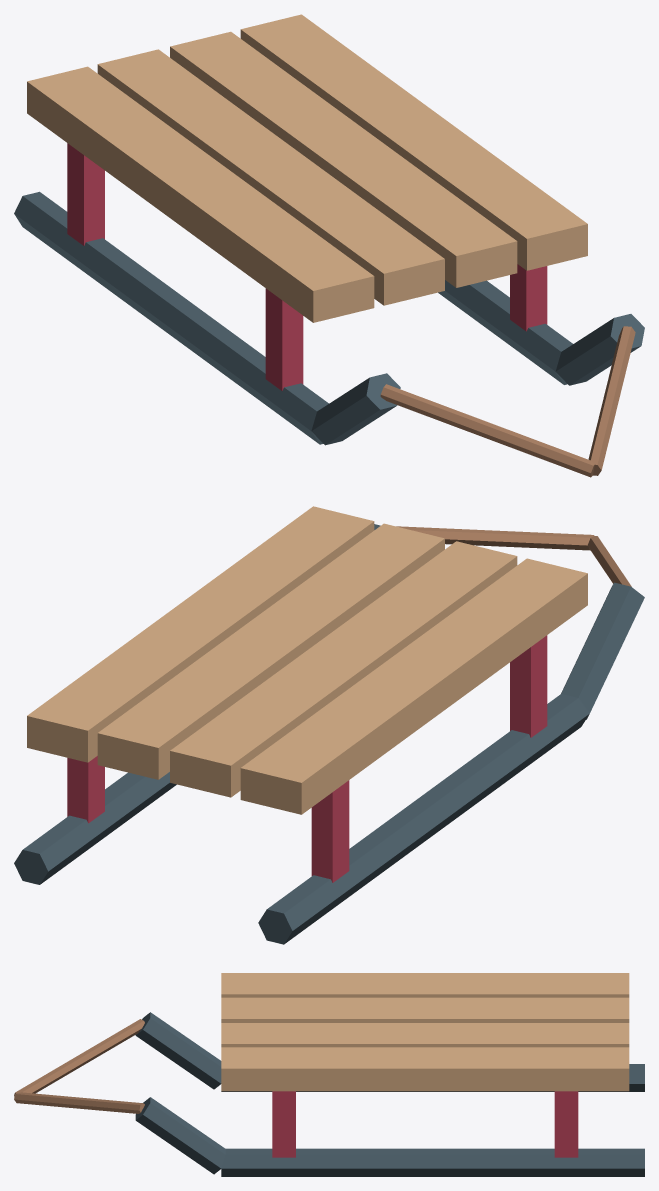
Rendered from sled.glb.
3 renders of one model, top to bottom at view 1: azimuth 30°, elevation 25°; view 2: azimuth 150°, elevation 25°; view 3: azimuth 270°, elevation 25°, orthographic. The views are drawn at different scales.
Parts seen in each view (by area): view 1: wooden-sled-cedar, wooden-sled-iron, wooden-sled-red, wooden-sled-wood; view 2: wooden-sled-cedar, wooden-sled-iron, wooden-sled-red, wooden-sled-wood; view 3: wooden-sled-cedar, wooden-sled-iron, wooden-sled-red, wooden-sled-wood.
Part boxes in pixels (x1,y1,x2,y2): wooden-sled-cedar: [27, 14, 587, 322]; wooden-sled-iron: [14, 191, 644, 445]; wooden-sled-red: [67, 143, 547, 390]; wooden-sled-wood: [380, 326, 635, 477]; wooden-sled-cedar: [27, 506, 587, 814]; wooden-sled-iron: [14, 524, 644, 944]; wooden-sled-red: [67, 635, 547, 882]; wooden-sled-wood: [396, 526, 631, 586]; wooden-sled-cedar: [221, 973, 629, 1091]; wooden-sled-iron: [135, 1012, 644, 1176]; wooden-sled-red: [272, 1091, 578, 1157]; wooden-sled-wood: [14, 1019, 144, 1113].
Size of the model in its own units: 0.73 by 0.389 by 2.01.
